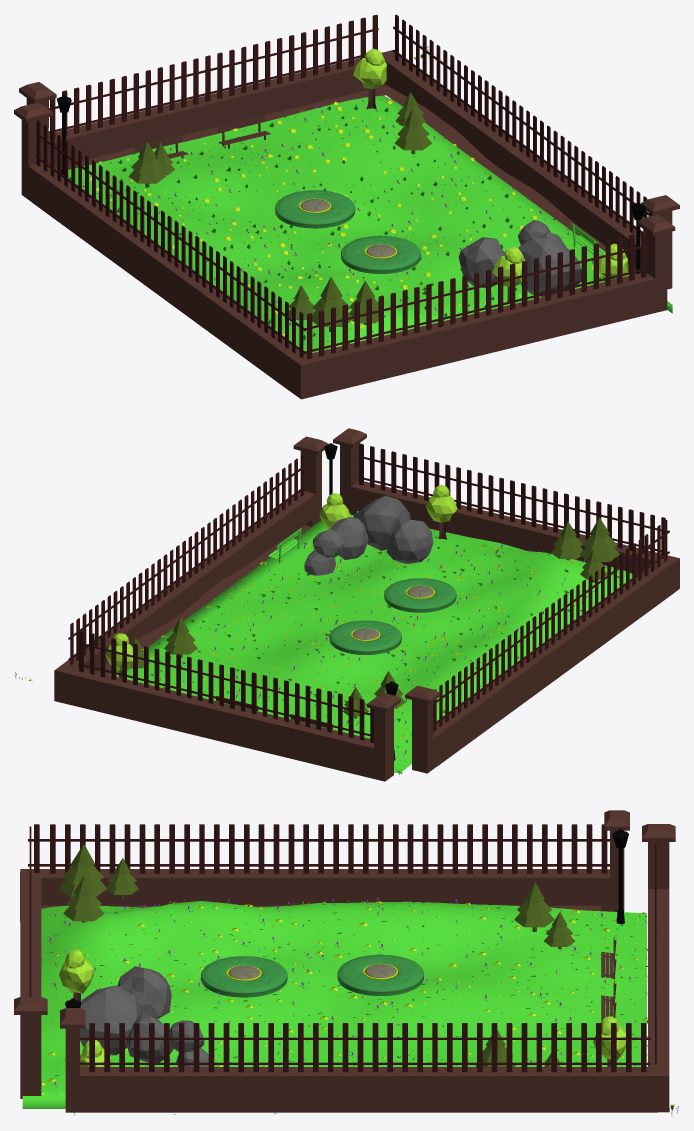
The model's file is platform.glb.
The picture shows the model from 3 angles, top to bottom: view 1: azimuth 30°, elevation 25°; view 2: azimuth 150°, elevation 25°; view 3: azimuth 270°, elevation 25°; orthographic projection. The views are drawn at different scales.
Parts seen in each view (by area): view 1: terriccio, terriccio.001, abete, Mesh.002, Mesh.001, Cylinder.004, Cylinder.002; view 2: terriccio, terriccio.001, abete, Mesh.001, Mesh.002, Cylinder.002, Cylinder.001, Cylinder.004; view 3: terriccio, terriccio.001, abete, Mesh.001, Mesh.002, Cylinder.002, Cylinder.004.
Part boxes in pixels (box(x1,y1,x2,y2)): terriccio: box(14, 14, 679, 399); terriccio.001: box(68, 95, 672, 352); abete: box(128, 92, 432, 331); Mesh.002: box(275, 190, 355, 228); Mesh.001: box(341, 235, 420, 273); Cylinder.004: box(353, 48, 386, 109); Cylinder.002: box(492, 246, 525, 304); terriccio: box(54, 428, 679, 781); terriccio.001: box(109, 511, 632, 773); abete: box(129, 517, 619, 718); Mesh.001: box(384, 578, 456, 612); Mesh.002: box(329, 620, 401, 654); Cylinder.002: box(426, 485, 457, 539); Cylinder.001: box(319, 493, 350, 529); Cylinder.004: box(105, 633, 132, 677); terriccio: box(14, 810, 675, 1112); terriccio.001: box(22, 901, 646, 1108); abete: box(59, 844, 575, 1066); Mesh.001: box(201, 956, 287, 997); Mesh.002: box(337, 954, 423, 995); Cylinder.002: box(59, 949, 93, 1002); Cylinder.004: box(593, 1016, 625, 1066).
Size of the model in its own units: 26.49 by 6.21 by 32.3.
